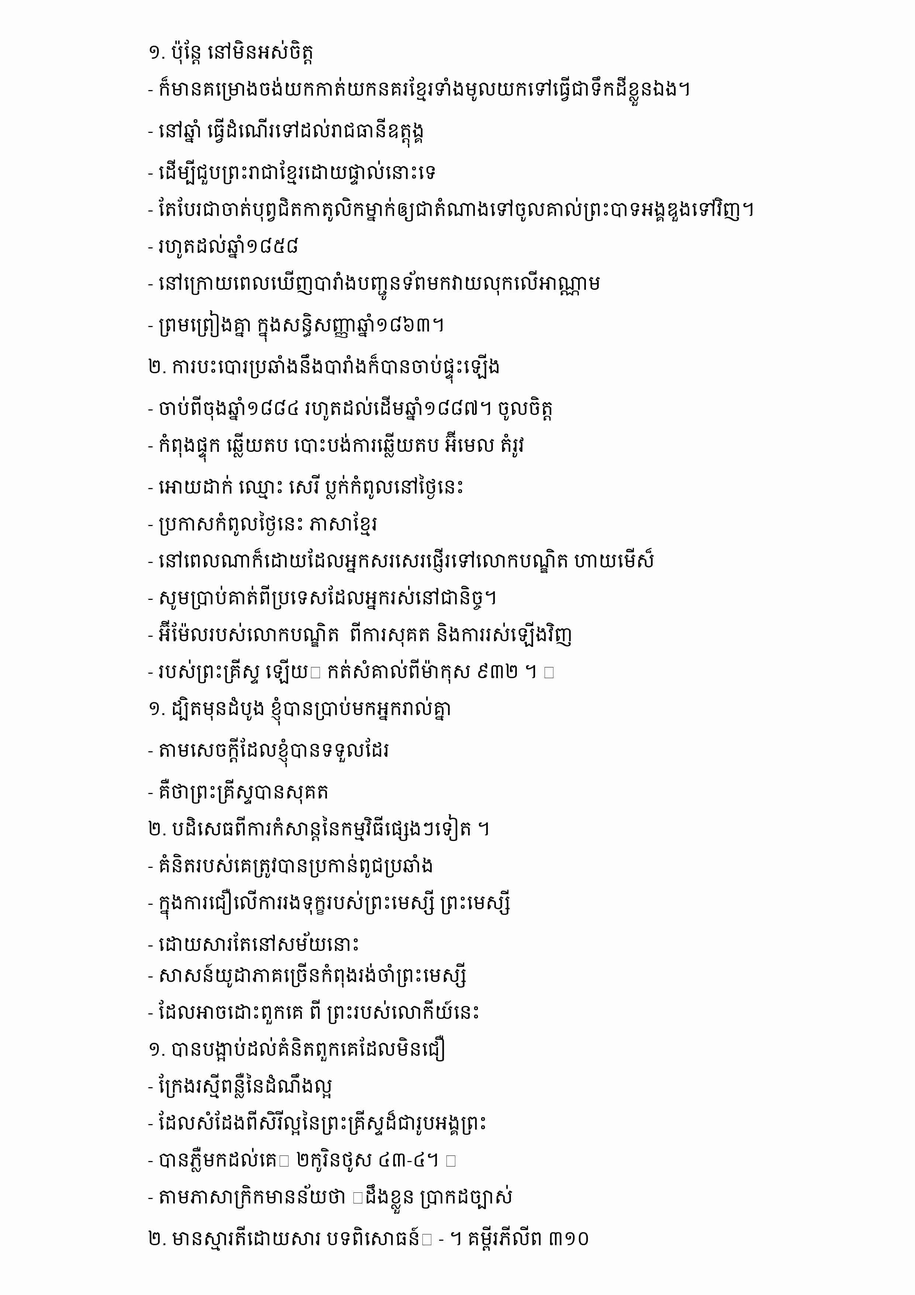text: (148, 76, 696, 106), (148, 197, 759, 222), (148, 270, 606, 300), (148, 548, 660, 573), (148, 430, 529, 463), (148, 888, 515, 920), (148, 620, 578, 647), (148, 1226, 595, 1251), (148, 1184, 518, 1214), (148, 354, 506, 384), (148, 395, 559, 421), (148, 659, 560, 684), (148, 310, 449, 342), (148, 814, 495, 841), (148, 696, 457, 726), (148, 1110, 492, 1136), (148, 585, 502, 610), (148, 999, 485, 1025), (148, 118, 429, 148), (148, 962, 472, 988), (148, 1035, 451, 1062), (148, 474, 469, 499), (148, 1147, 462, 1172), (148, 159, 442, 185), (148, 737, 394, 767), (148, 853, 439, 878), (148, 511, 383, 536), (148, 1073, 338, 1099), (148, 779, 334, 804), (148, 931, 365, 951), (148, 40, 319, 65), (148, 234, 304, 259)
